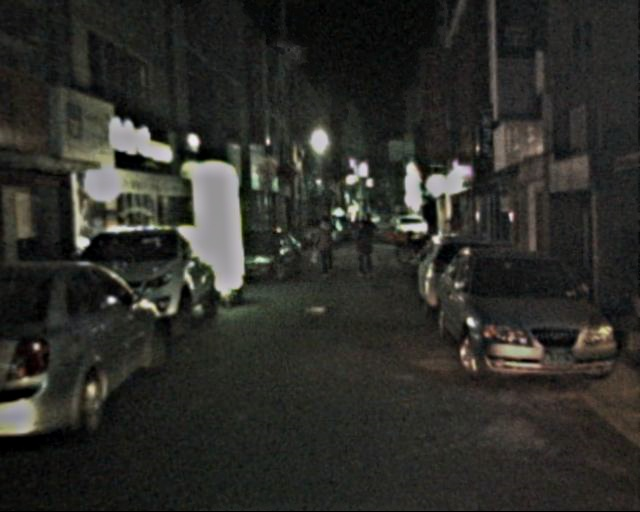person: (349, 214, 379, 288), (309, 218, 337, 287)
